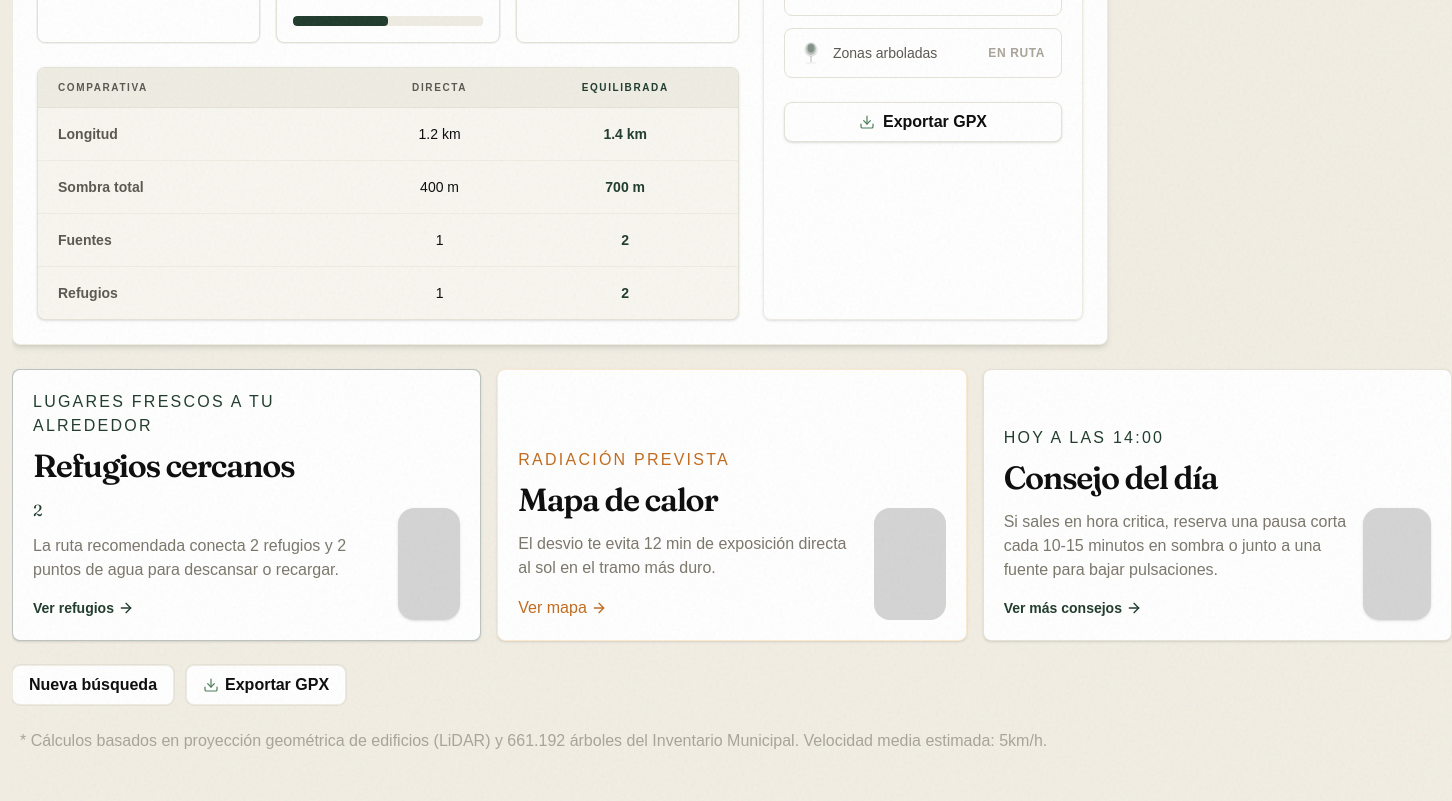
Test: SearchBar integration › uses the lower heatmap card as the heatmap toggle affordance
(page scrolled)
Click the button with aria-label "ver mapa de calor": point(624, 459) x1=497 y1=369 x2=967 y2=641
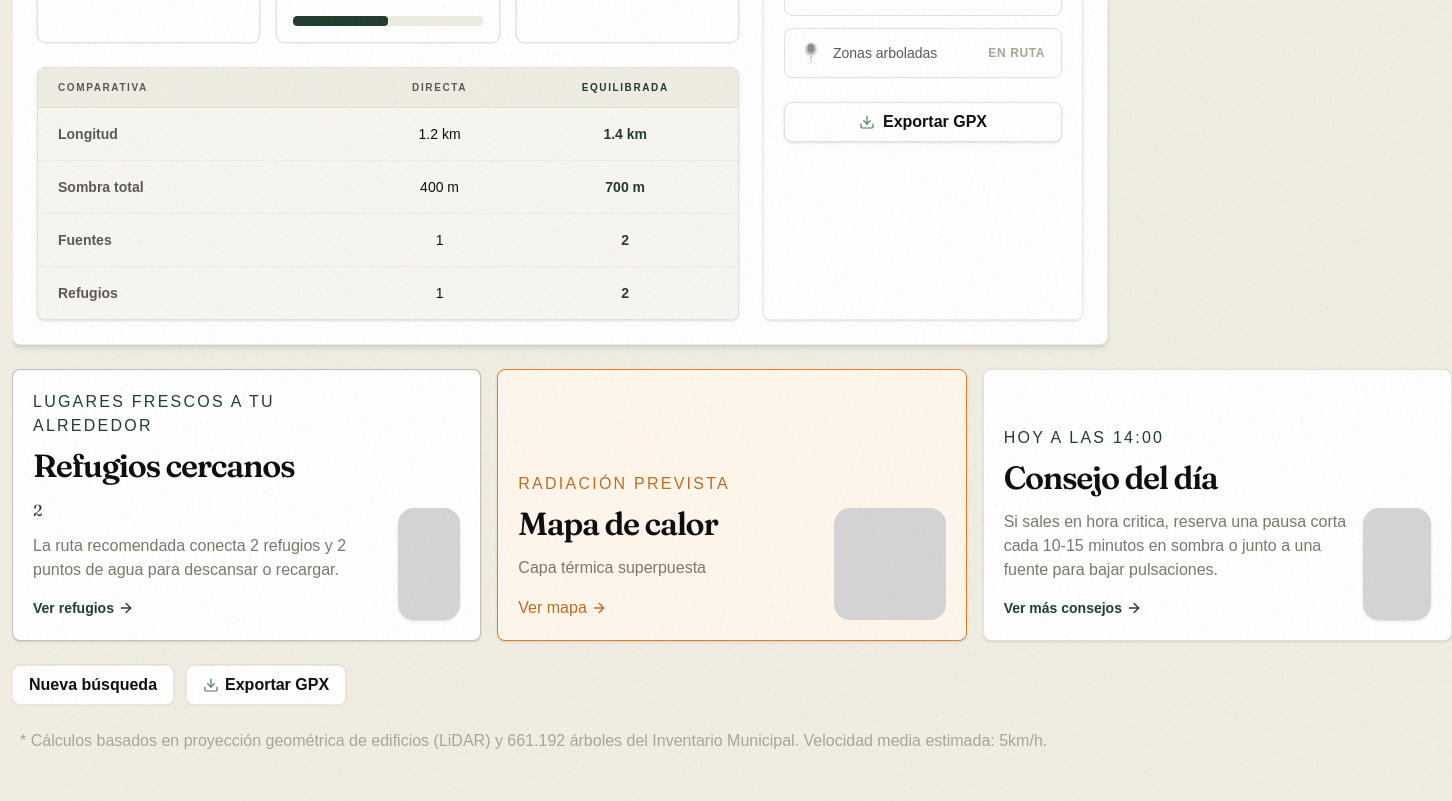
Result: the text "Capa térmica superpuesta" is shown at x1=518 y1=556 x2=730 y2=580
